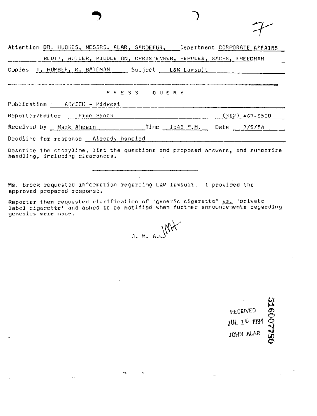textline: (7, 54, 285, 64), (50, 101, 286, 109), (85, 136, 286, 144), (67, 111, 209, 120), (158, 66, 285, 75), (42, 44, 181, 52), (92, 163, 199, 172), (50, 123, 146, 132), (35, 66, 128, 74), (218, 43, 286, 52), (215, 112, 286, 120), (232, 124, 286, 131), (162, 124, 208, 131)
